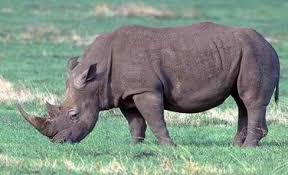Rhinoceros: (9, 13, 281, 148)
